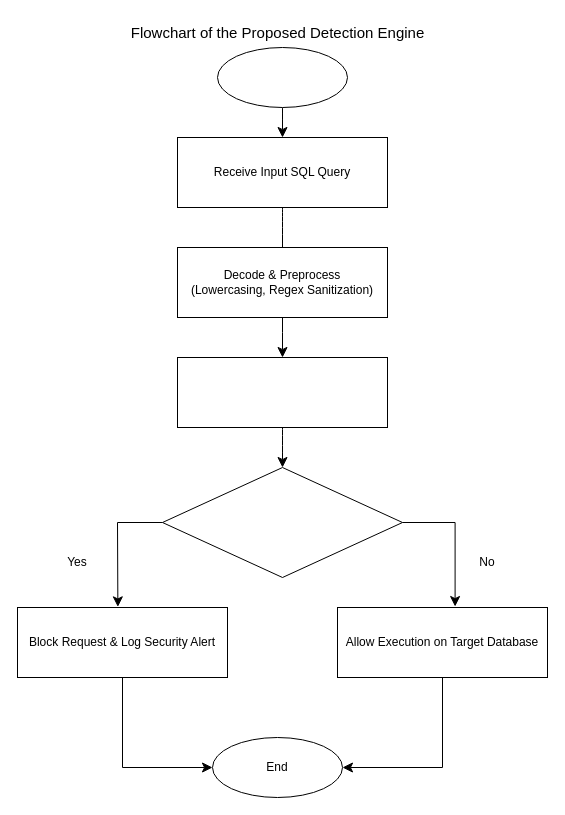
Image size: 565x815. Some labels were removed from this diagram. The shapes that lost their labels are listed below. From the top down, each one's centre as x and y in pixels, then its label:
At (x=282, y=77): "Start".
At (x=282, y=392): "Transform Text to TF-IDF Feature Vector".
At (x=282, y=522): "Is Probability > 0.50?(Malicious?)".
